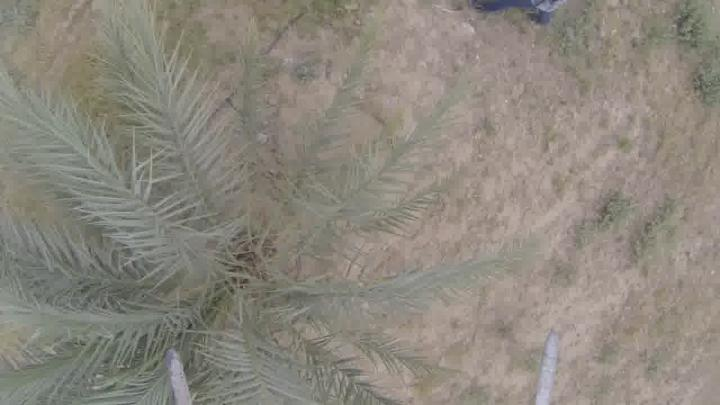Date-Palm-Crown: (33, 123, 345, 405)
